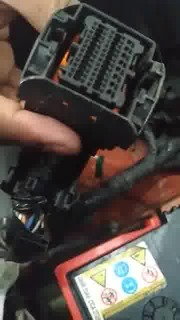connector: (17, 3, 165, 150)
